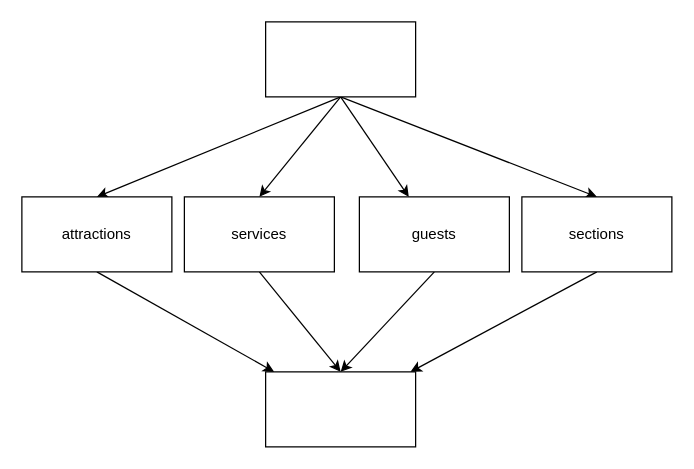
Some shapes in this 694 by 469 pixel diagram are drawn without their labels. The shapes that lost their labels are listed below. From the top down, each one's box as (x1, y1, x2, y2) in pixels, then its label:
(264, 21, 416, 97): database
(264, 371, 416, 447): main
